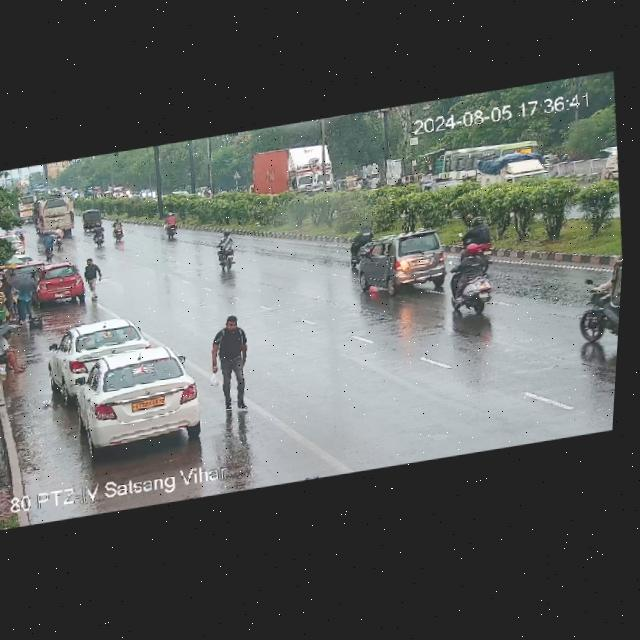bus: (438, 136, 546, 187), (27, 193, 79, 239)
car: (69, 340, 209, 455), (350, 223, 456, 303), (46, 313, 149, 389), (29, 258, 89, 308), (80, 208, 105, 228), (334, 175, 360, 191)
motorcycle: (439, 243, 502, 322), (453, 214, 500, 277), (344, 218, 378, 267), (213, 223, 240, 276), (158, 211, 183, 242), (86, 221, 108, 249), (51, 222, 65, 252), (111, 218, 128, 241)
person: (198, 311, 259, 419), (3, 268, 37, 324), (0, 324, 33, 381), (79, 255, 106, 304)
truck: (247, 136, 339, 206)
